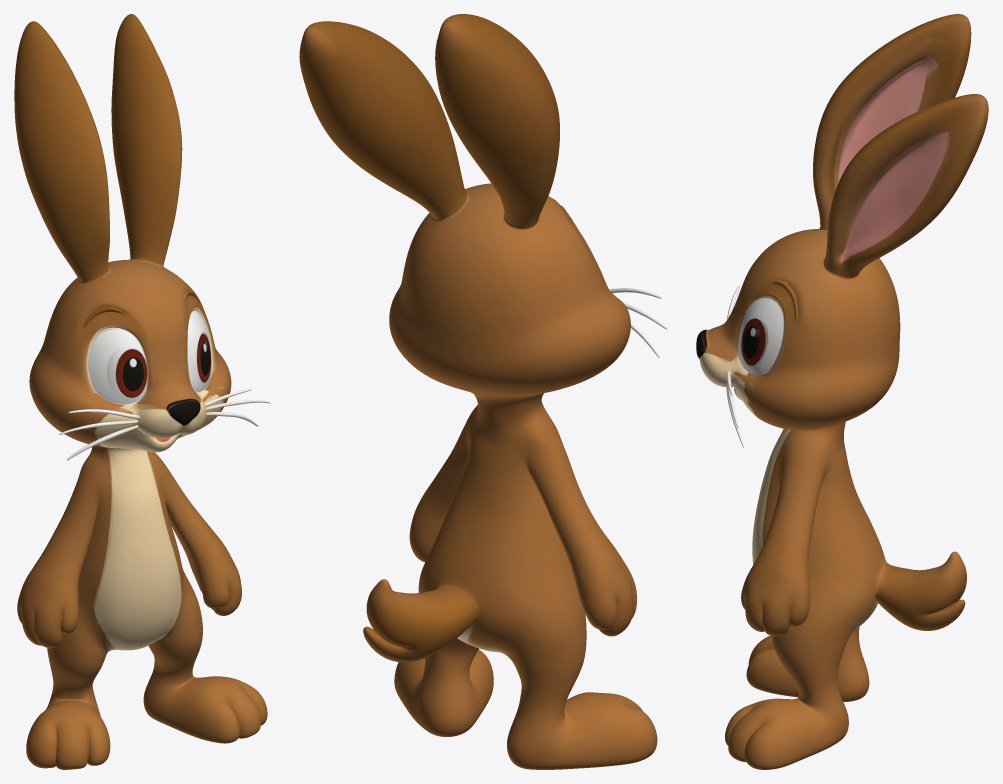
Rendered from liebre.glb.
The picture shows the model from 3 angles, left to right: view 1: azimuth 30°, elevation 25°; view 2: azimuth 150°, elevation 25°; view 3: azimuth 270°, elevation 25°; orthographic projection. The views are drawn at different scales.
Bounding box in the file's own units: 0.673 × 1.9 × 0.7302.
Materials: 1 (1 with a texture image).
